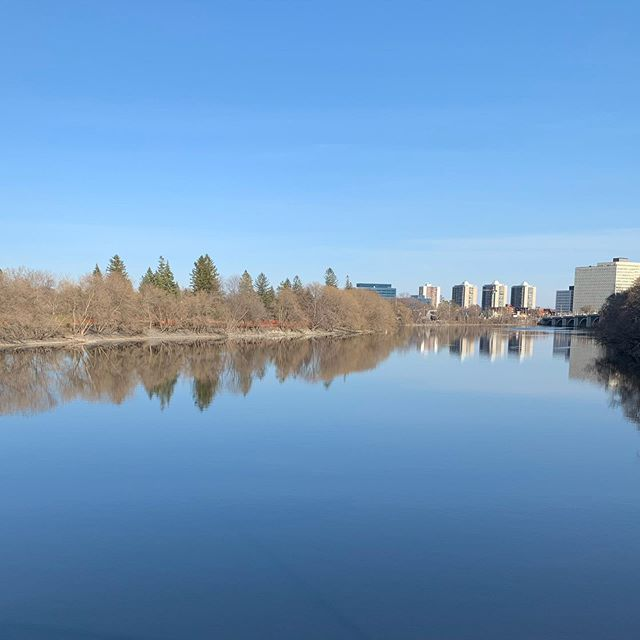building: (558, 252, 640, 325), (448, 276, 478, 315), (414, 280, 442, 321), (481, 277, 507, 316), (516, 275, 540, 313)
river: (1, 336, 634, 640)
sky: (8, 1, 640, 260)
vegetation: (1, 267, 418, 349)
